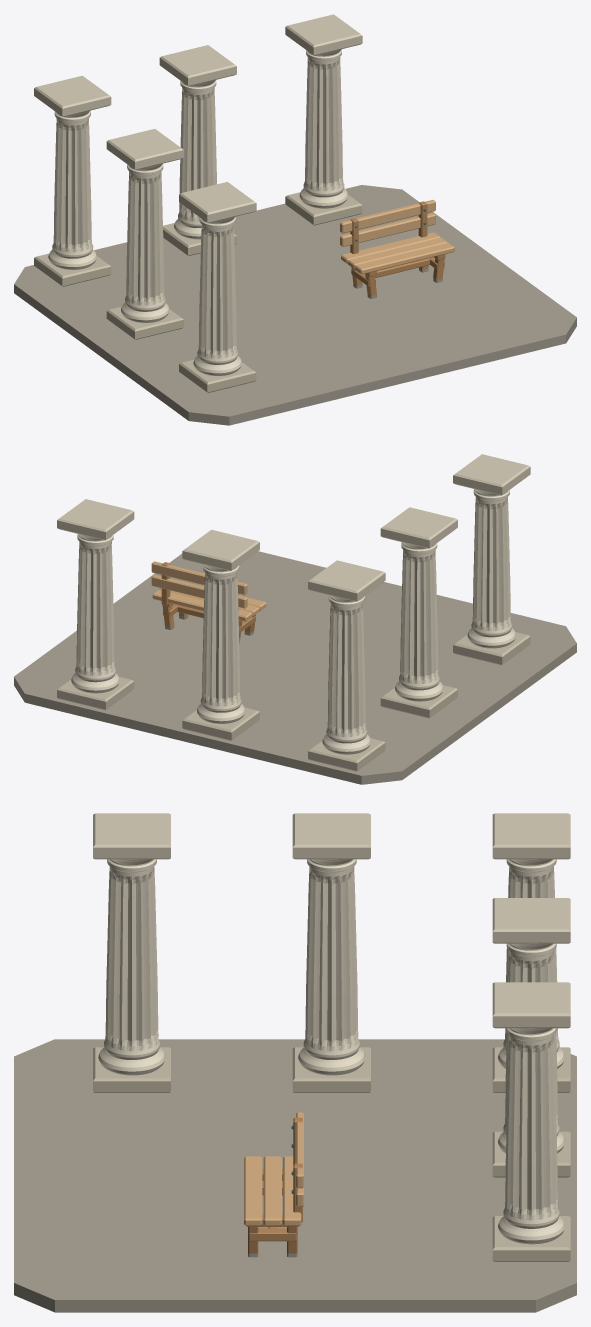
3 views of the same model, one above another, from view 1: azimuth 30°, elevation 25°; view 2: azimuth 150°, elevation 25°; view 3: azimuth 270°, elevation 25° (orthographic). The views are drawn at different scales.
Visible parts, largest first — view 1: SceneEnvironment_StoneBase, Bench_RestPocket__harbor-bench-01, Column_NorthEnd__Shaft_ContinuousSixteenFlutesNeckEchinus, Column_Turn__Shaft_ContinuousSixteenFlutesNeckEchinus, Column_WestEntry__Shaft_ContinuousSixteenFlutesNeckEchinus, Column_WestMid__Shaft_ContinuousSixteenFlutesNeckEchinus, Column_NorthMid__Shaft_ContinuousSixteenFlutesNeckEchinus, Column_NorthEnd__Capital_ThickSquareAbacus, Column_NorthMid__Capital_ThickSquareAbacus, Column_WestEntry__Capital_ThickSquareAbacus, Column_WestMid__Capital_ThickSquareAbacus, Column_Turn__Capital_ThickSquareAbacus (+5 smaller); view 2: SceneEnvironment_StoneBase, Column_NorthEnd__Shaft_ContinuousSixteenFlutesNeckEchinus, Column_WestMid__Shaft_ContinuousSixteenFlutesNeckEchinus, Column_Turn__Shaft_ContinuousSixteenFlutesNeckEchinus, Column_WestEntry__Shaft_ContinuousSixteenFlutesNeckEchinus, Column_NorthMid__Shaft_ContinuousSixteenFlutesNeckEchinus, Bench_RestPocket__harbor-bench-01, Column_Turn__Capital_ThickSquareAbacus, Column_NorthEnd__Capital_ThickSquareAbacus, Column_WestEntry__Capital_ThickSquareAbacus, Column_NorthMid__Capital_ThickSquareAbacus, Column_WestMid__Capital_ThickSquareAbacus (+5 smaller); view 3: SceneEnvironment_StoneBase, Column_WestMid__Shaft_ContinuousSixteenFlutesNeckEchinus, Column_WestEntry__Shaft_ContinuousSixteenFlutesNeckEchinus, Column_NorthEnd__Shaft_ContinuousSixteenFlutesNeckEchinus, Bench_RestPocket__harbor-bench-01, Column_Turn__Capital_ThickSquareAbacus, Column_NorthEnd__Capital_ThickSquareAbacus, Column_WestMid__Capital_ThickSquareAbacus, Column_WestEntry__Capital_ThickSquareAbacus, Column_NorthMid__Capital_ThickSquareAbacus, Column_NorthMid__Shaft_ContinuousSixteenFlutesNeckEchinus, Column_Turn__Shaft_ContinuousSixteenFlutesNeckEchinus (+5 smaller).
Part boxes in pixels (x1=…): SceneEnvironment_StoneBase: x1=14, y1=185, x2=576, y2=425; Bench_RestPocket__harbor-bench-01: x1=340, y1=200, x2=454, y2=296; Column_NorthEnd__Shaft_ContinuousSixteenFlutesNeckEchinus: x1=299, y1=49, x2=348, y2=208; Column_Turn__Shaft_ContinuousSixteenFlutesNeckEchinus: x1=48, y1=110, x2=96, y2=269; Column_WestEntry__Shaft_ContinuousSixteenFlutesNeckEchinus: x1=193, y1=216, x2=241, y2=375; Column_WestMid__Shaft_ContinuousSixteenFlutesNeckEchinus: x1=121, y1=163, x2=169, y2=322; Column_NorthMid__Shaft_ContinuousSixteenFlutesNeckEchinus: x1=174, y1=80, x2=216, y2=239; Column_NorthEnd__Capital_ThickSquareAbacus: x1=285, y1=14, x2=362, y2=55; Column_NorthMid__Capital_ThickSquareAbacus: x1=159, y1=45, x2=236, y2=86; Column_WestEntry__Capital_ThickSquareAbacus: x1=179, y1=182, x2=256, y2=223; Column_WestMid__Capital_ThickSquareAbacus: x1=106, y1=129, x2=183, y2=170; Column_Turn__Capital_ThickSquareAbacus: x1=34, y1=75, x2=111, y2=116; SceneEnvironment_StoneBase: x1=14, y1=551, x2=576, y2=784; Column_NorthEnd__Shaft_ContinuousSixteenFlutesNeckEchinus: x1=71, y1=534, x2=119, y2=693; Column_WestMid__Shaft_ContinuousSixteenFlutesNeckEchinus: x1=395, y1=542, x2=443, y2=701; Column_Turn__Shaft_ContinuousSixteenFlutesNeckEchinus: x1=322, y1=595, x2=371, y2=754; Column_WestEntry__Shaft_ContinuousSixteenFlutesNeckEchinus: x1=467, y1=489, x2=516, y2=648; Column_NorthMid__Shaft_ContinuousSixteenFlutesNeckEchinus: x1=197, y1=564, x2=245, y2=723; Bench_RestPocket__harbor-bench-01: x1=151, y1=561, x2=266, y2=641; Column_Turn__Capital_ThickSquareAbacus: x1=308, y1=560, x2=385, y2=601; Column_NorthEnd__Capital_ThickSquareAbacus: x1=57, y1=499, x2=134, y2=540; Column_WestEntry__Capital_ThickSquareAbacus: x1=453, y1=454, x2=530, y2=495; Column_NorthMid__Capital_ThickSquareAbacus: x1=182, y1=529, x2=259, y2=570; Column_WestMid__Capital_ThickSquareAbacus: x1=380, y1=507, x2=457, y2=548; SceneEnvironment_StoneBase: x1=14, y1=1039, x2=576, y2=1312; Column_WestMid__Shaft_ContinuousSixteenFlutesNeckEchinus: x1=298, y1=859, x2=365, y2=1075; Column_WestEntry__Shaft_ContinuousSixteenFlutesNeckEchinus: x1=98, y1=859, x2=165, y2=1075; Column_NorthEnd__Shaft_ContinuousSixteenFlutesNeckEchinus: x1=498, y1=1028, x2=565, y2=1244; Bench_RestPocket__harbor-bench-01: x1=244, y1=1112, x2=303, y2=1253; Column_Turn__Capital_ThickSquareAbacus: x1=492, y1=813, x2=570, y2=859; Column_NorthEnd__Capital_ThickSquareAbacus: x1=492, y1=982, x2=570, y2=1028; Column_WestMid__Capital_ThickSquareAbacus: x1=292, y1=813, x2=370, y2=859; Column_WestEntry__Capital_ThickSquareAbacus: x1=93, y1=813, x2=170, y2=859; Column_NorthMid__Capital_ThickSquareAbacus: x1=492, y1=898, x2=570, y2=943; Column_NorthMid__Shaft_ContinuousSixteenFlutesNeckEchinus: x1=498, y1=943, x2=564, y2=1153; Column_Turn__Shaft_ContinuousSixteenFlutesNeckEchinus: x1=498, y1=859, x2=564, y2=1068.
Size of the model in its own units: 6.8 by 3.17 by 6.2.
